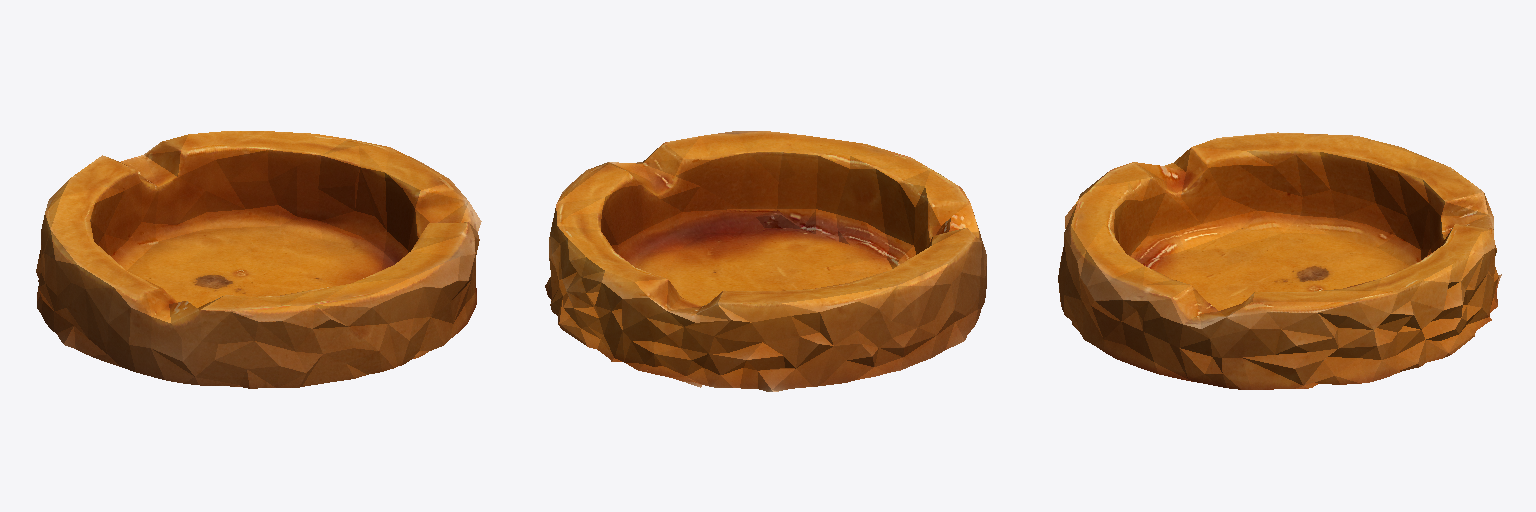
The picture shows the model from 3 angles: view 1: azimuth 30°, elevation 25°; view 2: azimuth 150°, elevation 25°; view 3: azimuth 270°, elevation 25°; orthographic projection.
Visible parts, largest first — view 1: asbak_oranje; view 2: asbak_oranje; view 3: asbak_oranje.
Part boxes in pixels (bbox=[...]): asbak_oranje: bbox=[36, 131, 481, 388]; asbak_oranje: bbox=[545, 131, 986, 391]; asbak_oranje: bbox=[1058, 132, 1501, 389].
Size of the model in its own units: 3.33 by 0.6529 by 3.29.
2 materials, 1 textured.